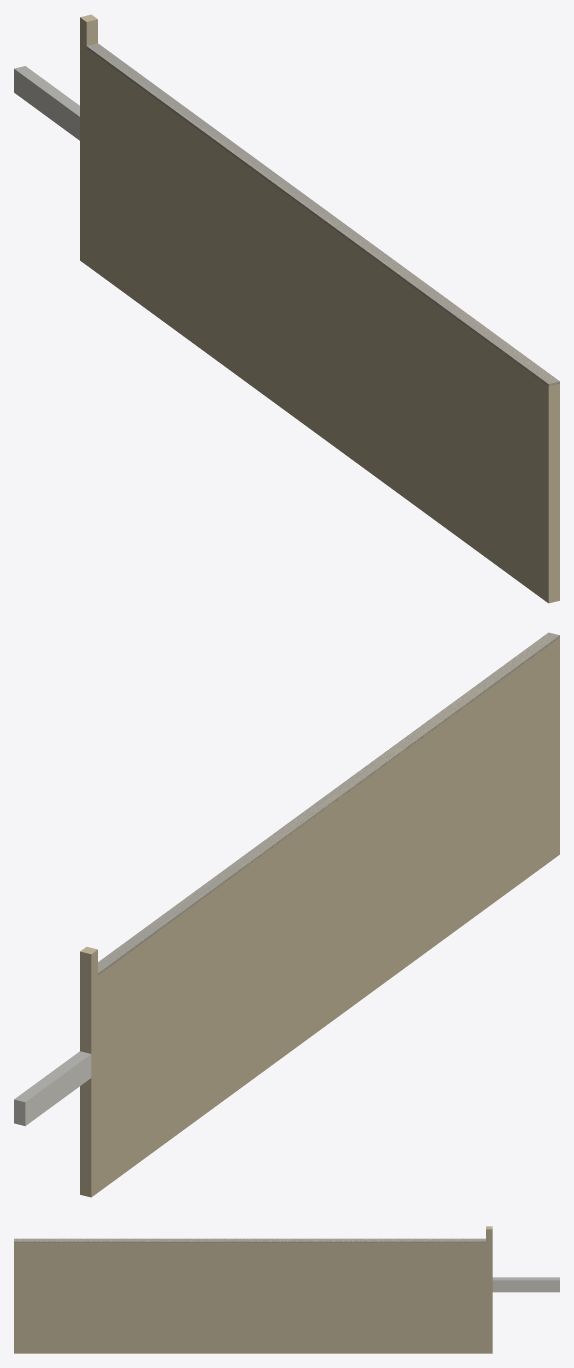
File: strip_mall_end_left.glb
3 renders of one model, top to bottom at view 1: azimuth 30°, elevation 25°; view 2: azimuth 150°, elevation 25°; view 3: azimuth 270°, elevation 25°, orthographic. The views are drawn at different scales.
Parts seen in each view (by area): view 1: strip_mall_end_left-col; view 2: strip_mall_end_left-col; view 3: strip_mall_end_left-col.
Part boxes in pixels (x1,y1,x2,y2): strip_mall_end_left-col: (14,14,559,603); strip_mall_end_left-col: (14,632,559,1197); strip_mall_end_left-col: (14,1226,559,1353).
Bounding box in the file's own units: 0.3 × 6.1 × 24.3.
